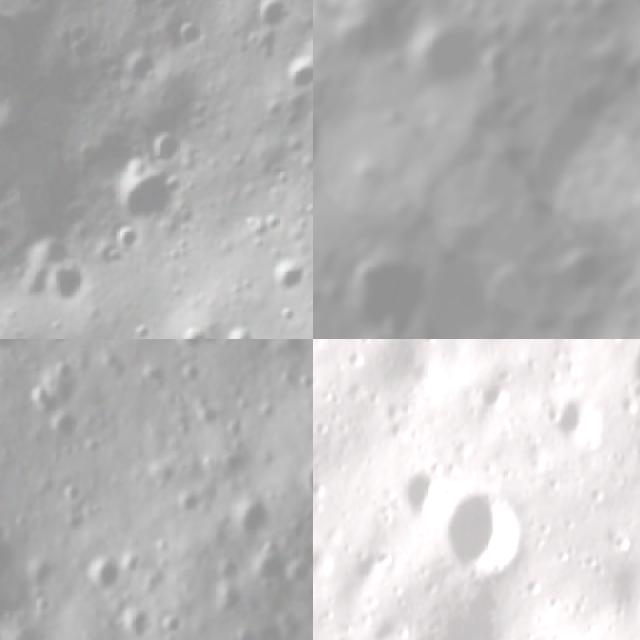crater: (387, 207, 527, 339), (326, 236, 433, 339), (392, 4, 490, 106), (0, 0, 80, 115), (446, 480, 533, 580), (98, 148, 194, 236), (471, 253, 559, 339), (462, 121, 543, 214), (542, 237, 616, 309), (346, 0, 450, 45), (28, 253, 92, 318), (472, 31, 530, 99), (136, 112, 194, 174), (258, 244, 313, 306), (112, 40, 168, 98), (555, 392, 610, 444), (400, 474, 459, 518), (0, 530, 39, 595), (313, 107, 340, 195), (162, 15, 213, 60), (480, 367, 522, 418), (243, 0, 296, 40), (279, 49, 313, 108), (611, 183, 640, 245), (86, 556, 122, 594), (352, 547, 383, 589), (49, 411, 83, 445), (214, 314, 260, 339), (234, 502, 271, 533), (254, 551, 280, 585), (625, 270, 640, 318), (335, 634, 366, 640), (0, 339, 11, 354)
